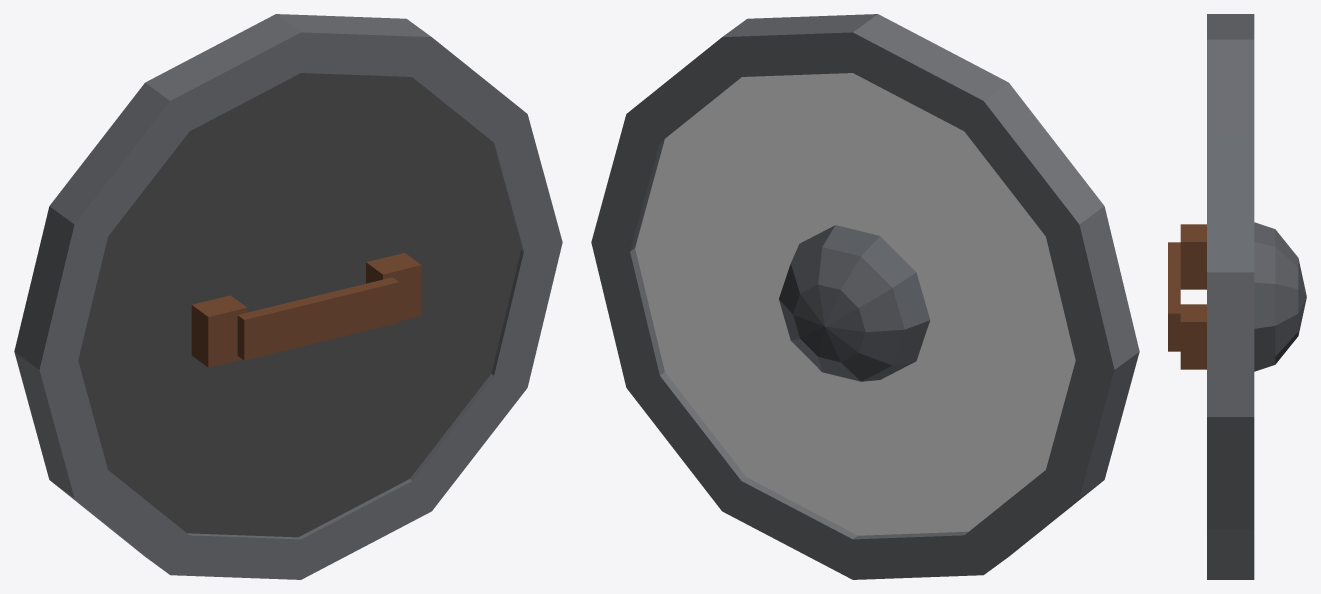
Rendered from vfem2_shield_round.obj.
3 renders of one model, left to right at view 1: azimuth 30°, elevation 25°; view 2: azimuth 150°, elevation 25°; view 3: azimuth 270°, elevation 25°, orthographic. The views are drawn at different scales.
Parts seen in each view (by area): view 1: vfem2_shield_round; view 2: vfem2_shield_round; view 3: vfem2_shield_round.
Boxes of the visible parts, bbox=[...] form: vfem2_shield_round: bbox=[14, 14, 562, 579]; vfem2_shield_round: bbox=[591, 14, 1139, 579]; vfem2_shield_round: bbox=[1168, 14, 1306, 579].
Bounding box in the file's own units: 0.54 × 0.54 × 0.132.
